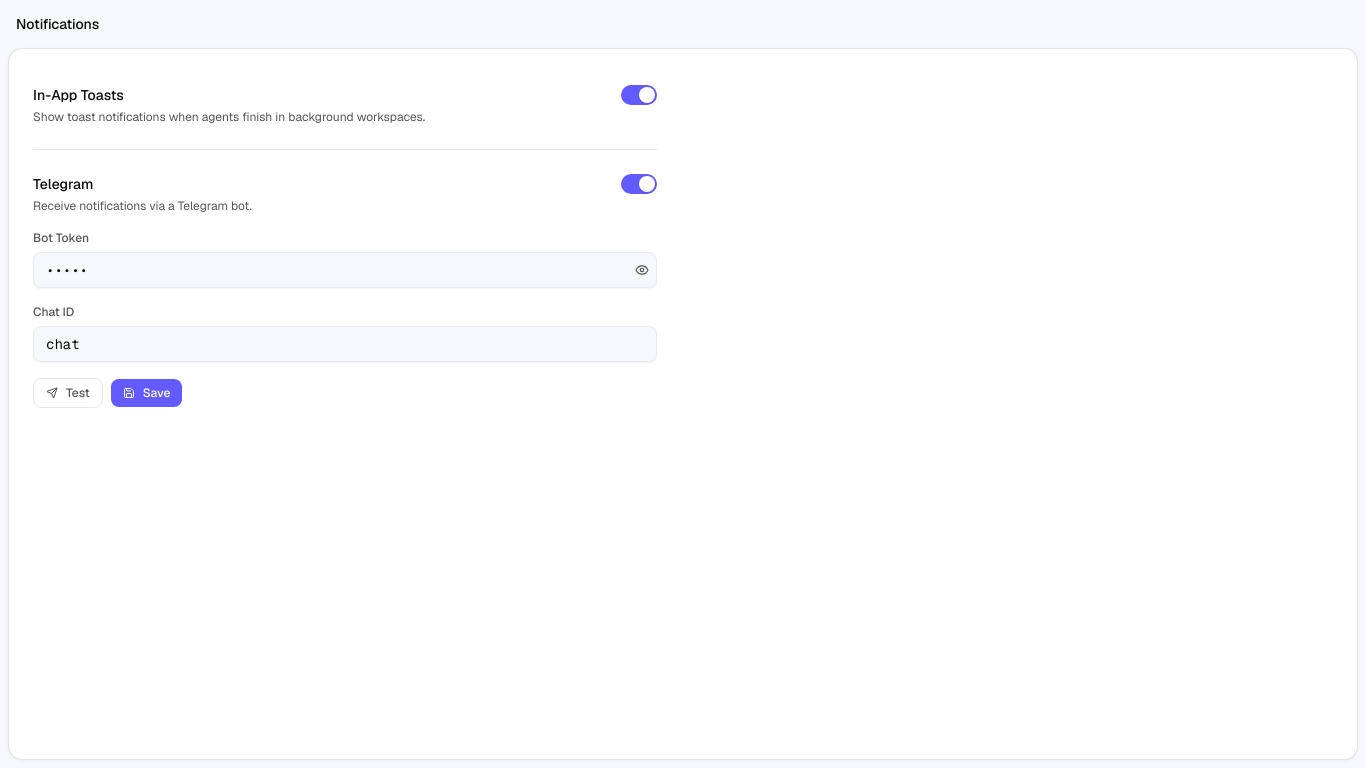
Test: NotificationSettings › shows backend test error returned by API
The image size is (1366, 768).
expect the heading "Notifications" is shown: met, box [16,14,99,34]
Step 1. Click the button "Test" → (68, 393), box [33,378,103,408]
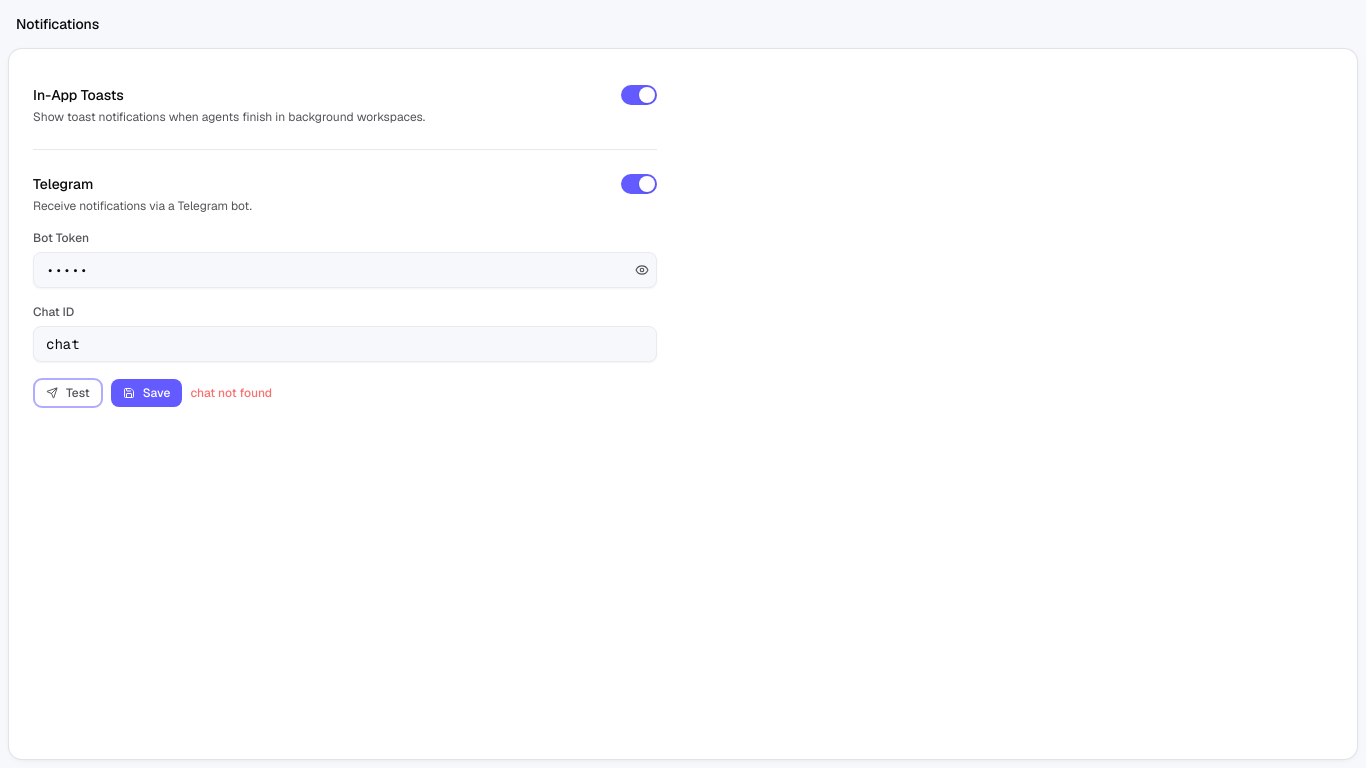
expect the text "chat not found" is shown: met, box [190,385,272,401]
